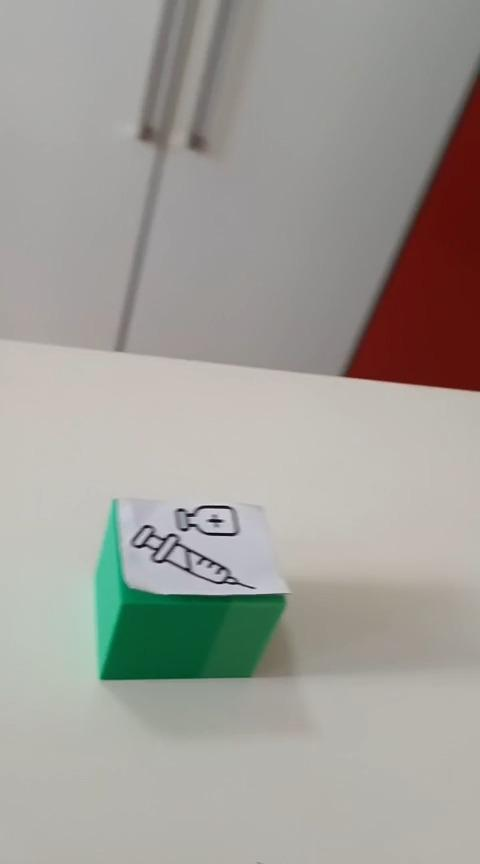antiseptic cream: (94, 495, 291, 680)
